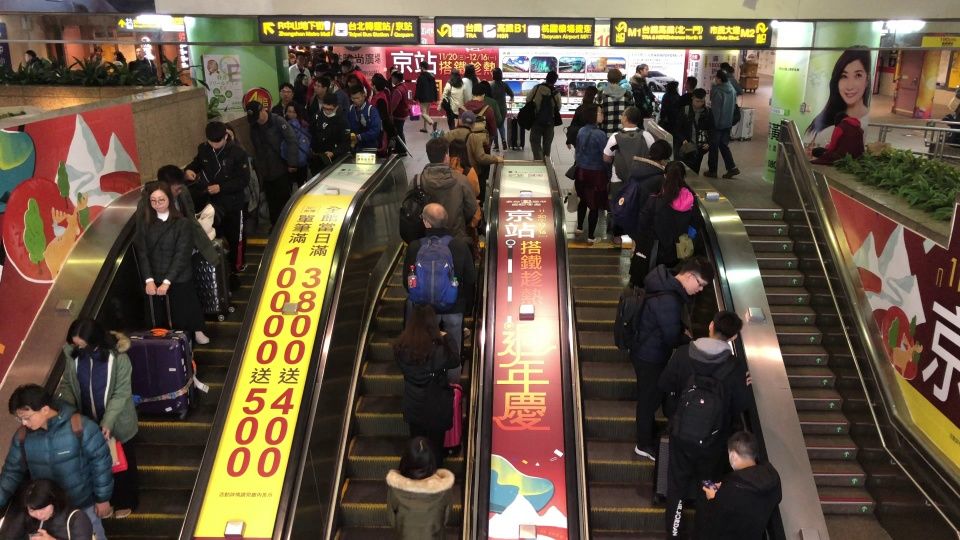person_head: (65, 312, 113, 357), (7, 382, 52, 429), (678, 254, 718, 302), (146, 179, 179, 234), (401, 434, 438, 479), (705, 304, 741, 349), (24, 476, 58, 516), (407, 303, 446, 333), (726, 434, 754, 474), (157, 166, 187, 197), (416, 204, 447, 231), (648, 139, 677, 164), (619, 104, 643, 134), (448, 137, 470, 169), (204, 119, 226, 147), (245, 99, 269, 123), (464, 62, 478, 98), (429, 137, 447, 164), (457, 109, 476, 132), (584, 103, 603, 125), (224, 120, 239, 147), (690, 87, 706, 111), (323, 95, 338, 119), (350, 84, 367, 105), (449, 65, 462, 89), (470, 81, 484, 103), (293, 72, 309, 91), (284, 100, 300, 119), (664, 77, 678, 98), (584, 85, 598, 106), (545, 69, 558, 91), (280, 82, 293, 104), (713, 69, 728, 87), (371, 74, 384, 94), (608, 68, 620, 87), (681, 77, 697, 91), (22, 49, 36, 65), (345, 73, 358, 90), (313, 78, 325, 96), (112, 46, 124, 61), (640, 62, 650, 79), (391, 71, 403, 85), (491, 66, 502, 81), (480, 79, 491, 94), (314, 63, 325, 78), (134, 45, 145, 58), (326, 72, 334, 87), (330, 52, 339, 65), (297, 52, 305, 66), (349, 55, 358, 66), (420, 61, 429, 71), (94, 47, 104, 56), (633, 63, 640, 75), (389, 65, 398, 74), (288, 54, 296, 64), (305, 55, 312, 66), (345, 52, 353, 61), (327, 45, 334, 54)
person_vbox: (660, 295, 758, 539), (51, 306, 146, 520), (632, 248, 720, 465), (2, 377, 116, 540), (135, 177, 199, 384), (406, 136, 477, 316), (184, 117, 243, 308), (388, 293, 457, 456), (155, 161, 211, 349), (632, 159, 709, 294), (400, 203, 459, 378), (701, 431, 783, 540), (388, 429, 461, 540), (603, 100, 656, 248), (443, 109, 503, 231), (242, 96, 289, 233), (5, 470, 93, 540), (632, 138, 674, 264), (574, 102, 609, 246), (444, 137, 483, 266), (225, 116, 252, 276), (704, 65, 741, 179), (525, 67, 564, 161), (455, 82, 499, 158), (278, 101, 315, 188), (311, 97, 351, 170), (684, 88, 717, 173), (566, 87, 606, 152), (598, 68, 636, 136), (658, 78, 689, 161), (345, 85, 381, 156), (490, 64, 515, 152), (412, 60, 439, 136), (434, 65, 465, 129), (627, 61, 661, 119), (389, 72, 410, 158), (368, 74, 389, 156), (125, 40, 155, 84), (342, 72, 367, 121), (481, 81, 502, 137), (664, 160, 690, 202), (460, 60, 479, 108), (718, 57, 741, 96), (947, 75, 960, 142), (272, 80, 296, 116), (682, 74, 703, 115), (373, 69, 392, 112), (288, 51, 312, 85), (310, 77, 330, 117), (937, 109, 958, 145), (291, 71, 309, 106), (20, 48, 40, 76), (88, 47, 111, 71), (109, 47, 126, 77), (325, 70, 342, 94), (619, 67, 634, 92), (386, 64, 398, 85), (305, 54, 314, 79), (313, 45, 325, 61), (325, 46, 334, 63), (305, 44, 314, 53), (290, 45, 296, 52), (298, 44, 303, 52), (320, 46, 326, 52)
